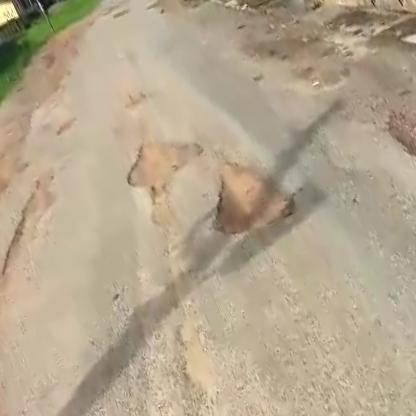pothole: (188, 144, 314, 259), (114, 119, 213, 202), (372, 51, 416, 222)
